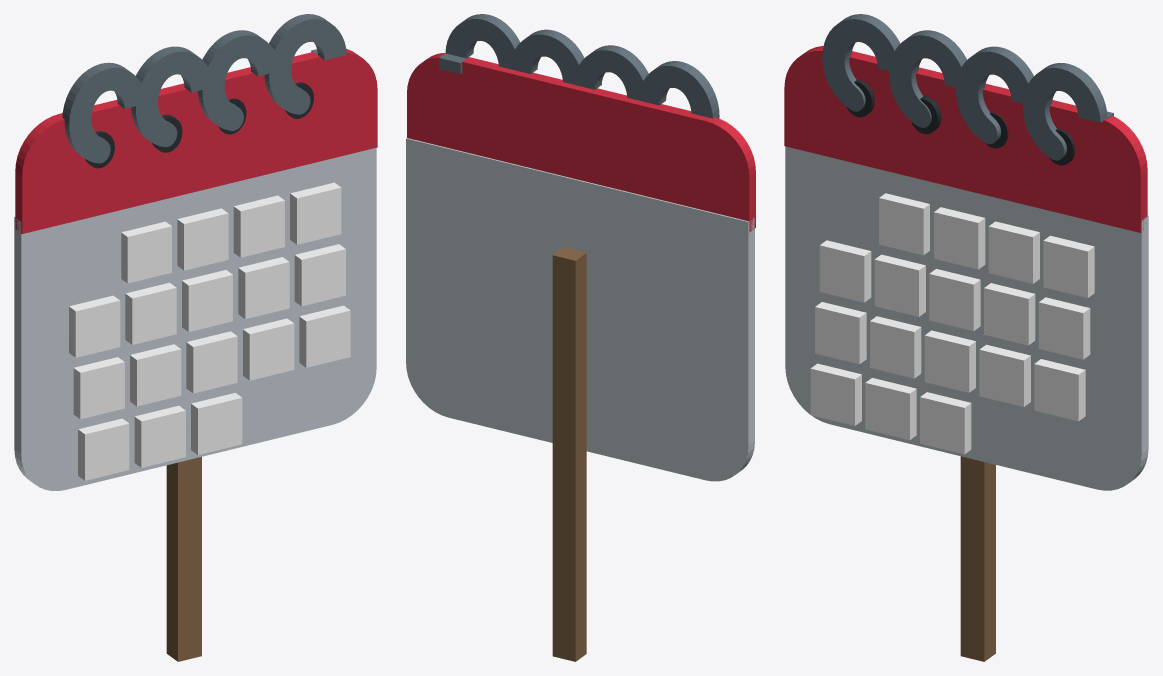
File: calendrier.glb
3 views of the same model, side by side, from view 1: azimuth 30°, elevation 25°; view 2: azimuth 150°, elevation 25°; view 3: azimuth 330°, elevation 25° (orthographic). The views are drawn at different scales.
Bounding box in the file's own units: 0.8933 × 1.5 × 0.181.
